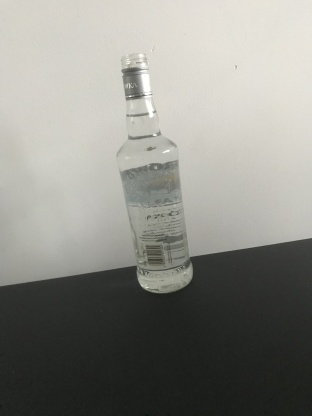nakretka: (119, 51, 154, 102)
